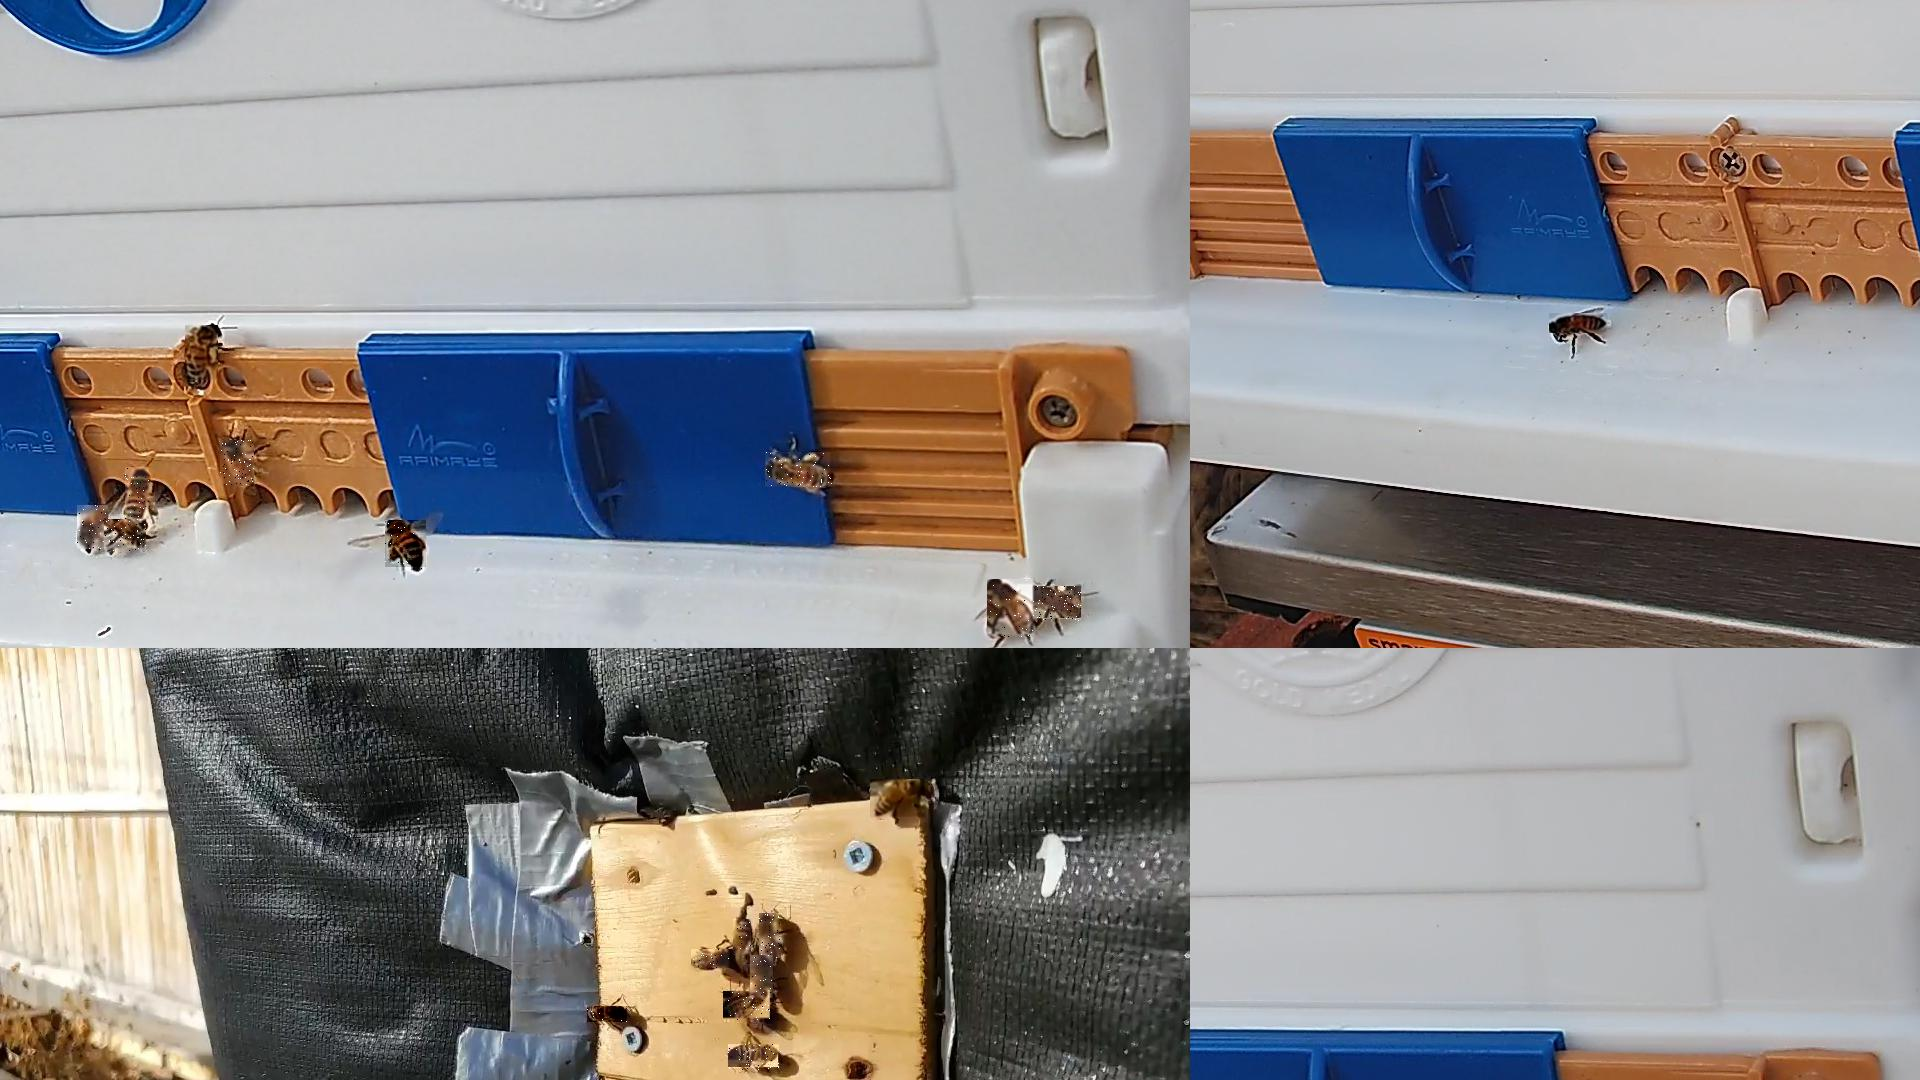bee: (988, 580, 1038, 640), (872, 779, 928, 822), (1021, 587, 1083, 622), (185, 326, 219, 382), (220, 440, 256, 487), (723, 992, 771, 1023), (729, 1044, 783, 1072), (76, 506, 109, 551), (104, 520, 148, 553), (125, 467, 150, 524), (1549, 313, 1611, 334), (750, 956, 774, 1001), (760, 913, 782, 959), (692, 949, 733, 969), (588, 1007, 630, 1026), (733, 920, 753, 959)
pollenbee: (766, 452, 833, 488), (385, 521, 427, 571)
